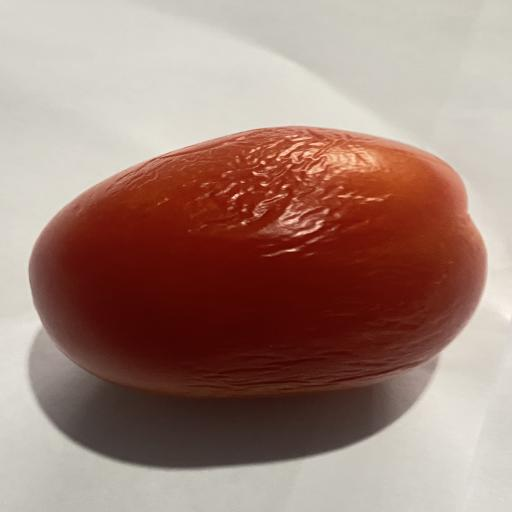spoiled: (30, 127, 486, 397)
